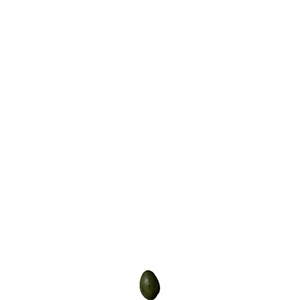abacate: (135, 268, 162, 300)
